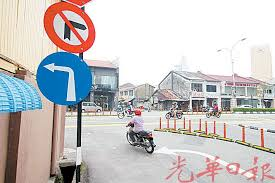No_right_turn: (44, 2, 96, 52)
